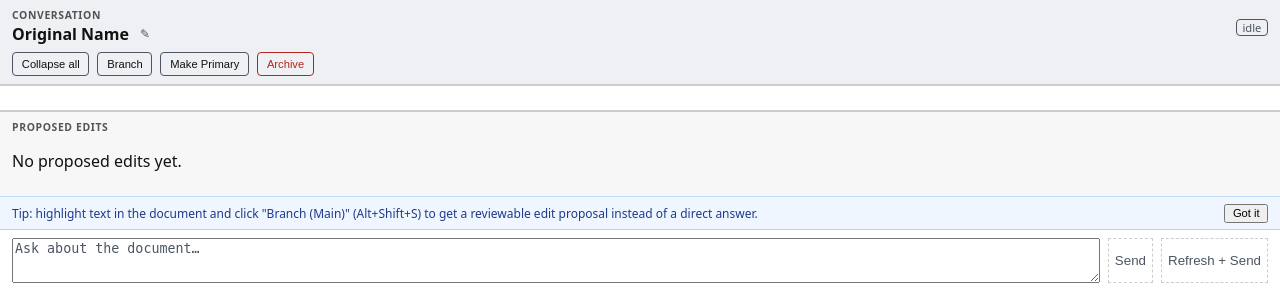
Scenario: ConversationView — rename UI › saves on blur, same as Enter
Click the button with class "thread-rename-button" at [145, 34], box [133,22,157,46]
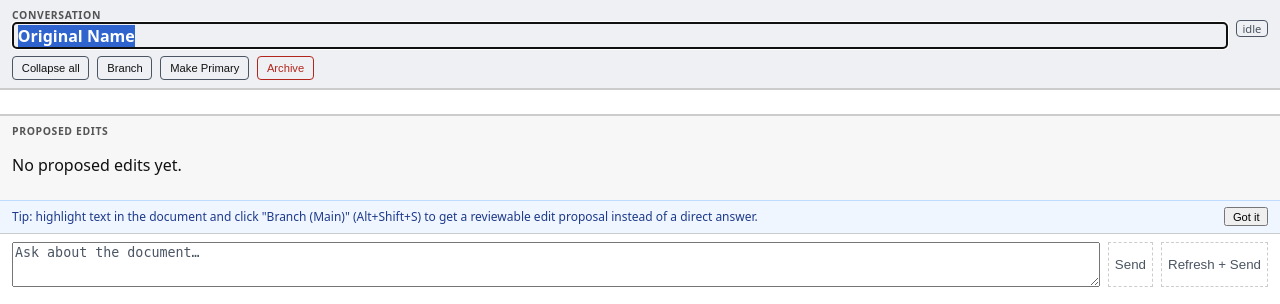
Replace the text in the field with class "thread-title-input" with "Blurred Name" at [620, 36], box [12,22,1228,49]
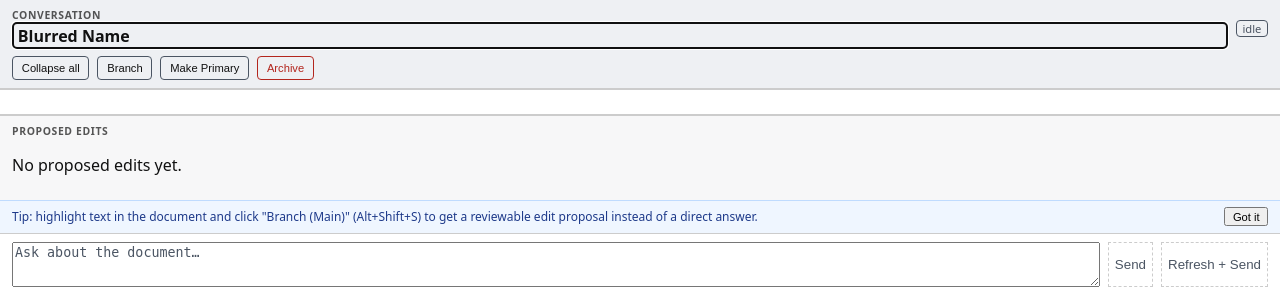
Leave the field with class "thread-title-input", box [12,22,1228,49]
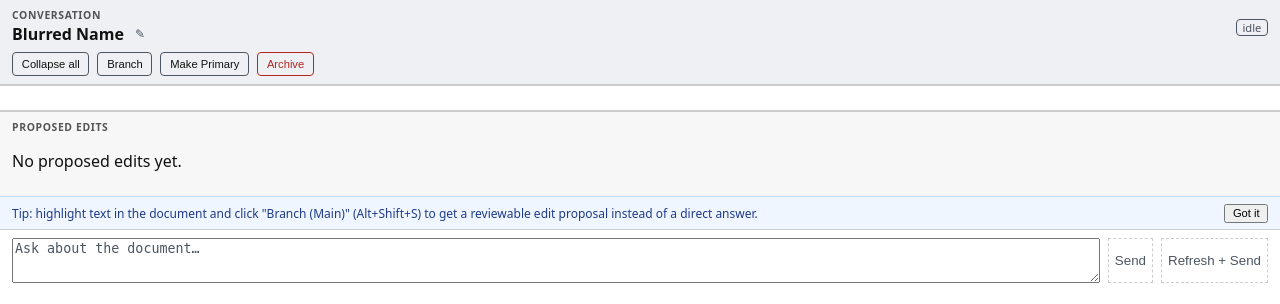
Check: the heading "Blurred Name" is shown, box [12,23,124,45]
